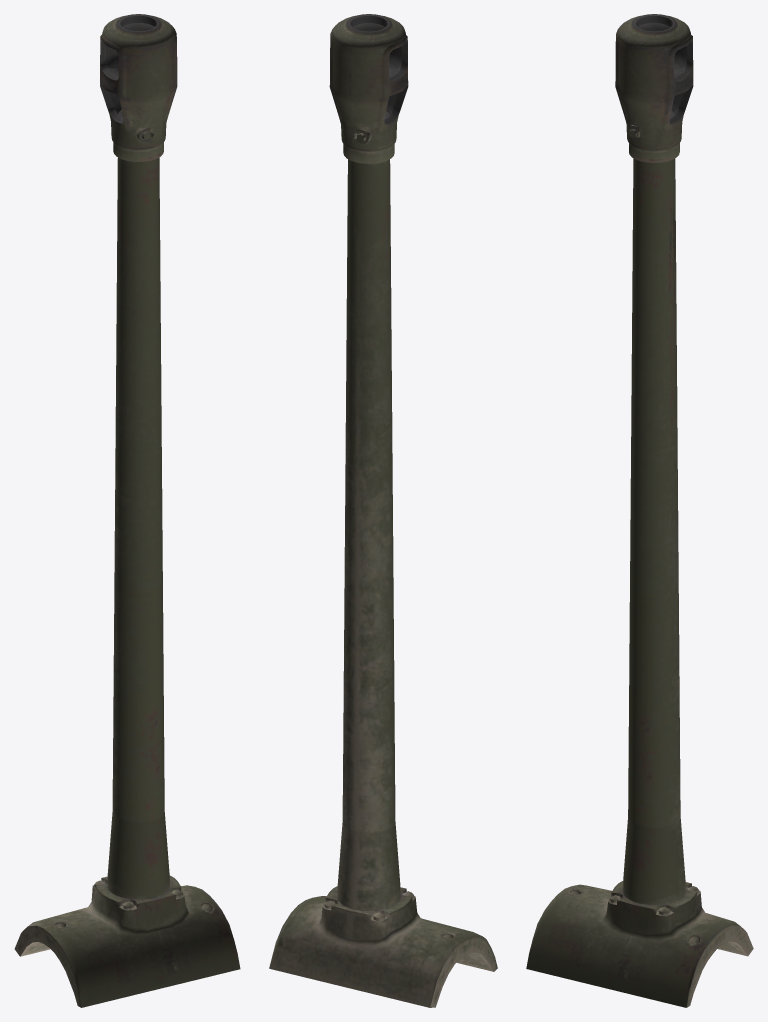
File: Gun_07.glb
3 views of the same model, side by side, from view 1: azimuth 30°, elevation 25°; view 2: azimuth 150°, elevation 25°; view 3: azimuth 330°, elevation 25° (orthographic).
Parts seen in each view (by area): view 1: set_0_group_0; view 2: set_0_group_0; view 3: set_0_group_0.
Boxes of the visible parts, x1,y1,x2,y2 form: set_0_group_0: [14, 14, 240, 1007]; set_0_group_0: [269, 14, 497, 1007]; set_0_group_0: [526, 14, 753, 1007].
Bounding box in the file's own units: 0.7621 × 4.29 × 0.556.
Materials: 1 (1 with a texture image).
